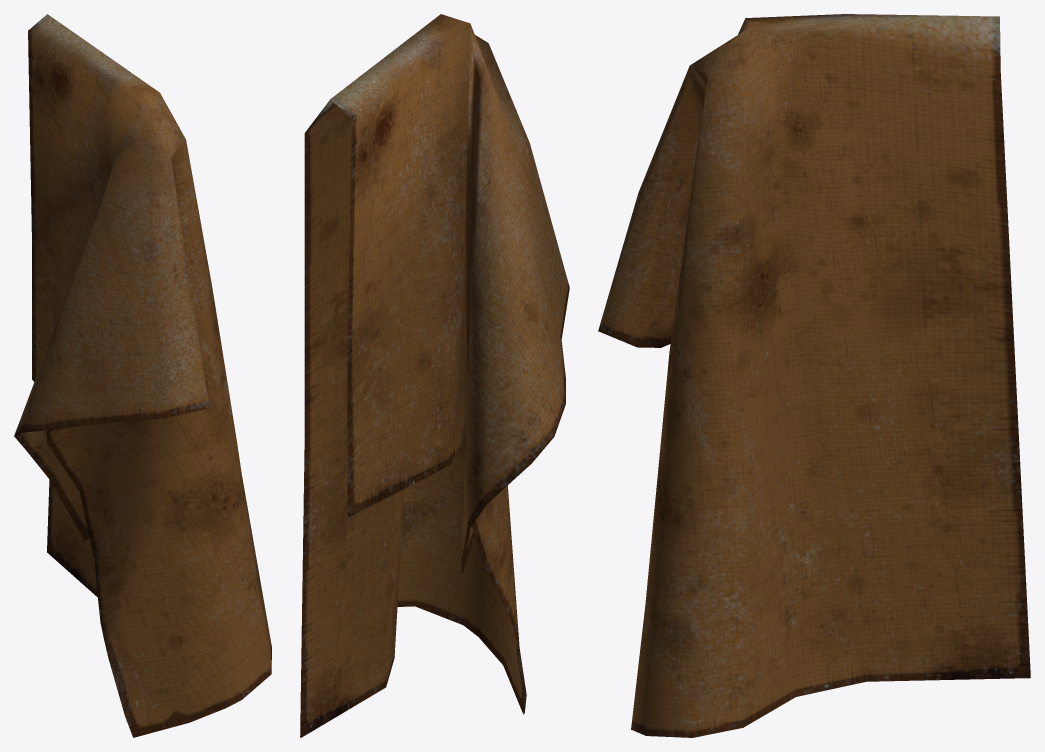
The model's file is TowelA.fbx.
The picture shows the model from 3 angles, left to right: view 1: azimuth 30°, elevation 25°; view 2: azimuth 150°, elevation 25°; view 3: azimuth 270°, elevation 25°; orthographic projection. The views are drawn at different scales.
Visible parts, largest first — view 1: TowelA; view 2: TowelA; view 3: TowelA.
Boxes of the visible parts, bbox=[...] form: TowelA: bbox=[14, 14, 271, 737]; TowelA: bbox=[300, 14, 569, 737]; TowelA: bbox=[598, 14, 1030, 737].
Size of the model in its own units: 22.8 by 65.65 by 34.97.
